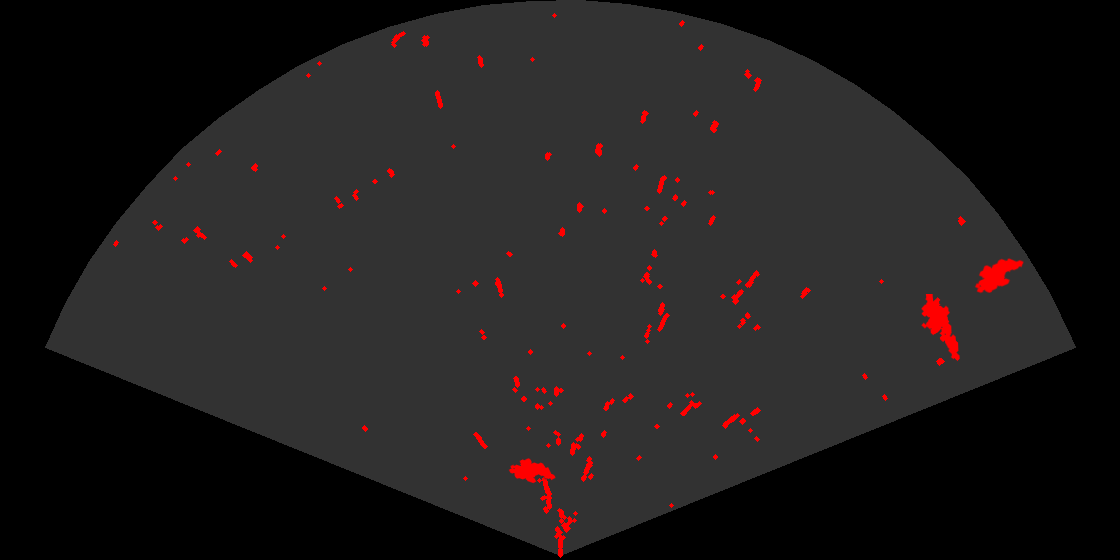AUV: (973, 256, 1025, 295), (507, 457, 557, 485)
frogman: (920, 294, 961, 363)
